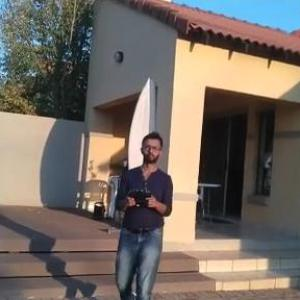follow: (111, 126, 177, 299)
